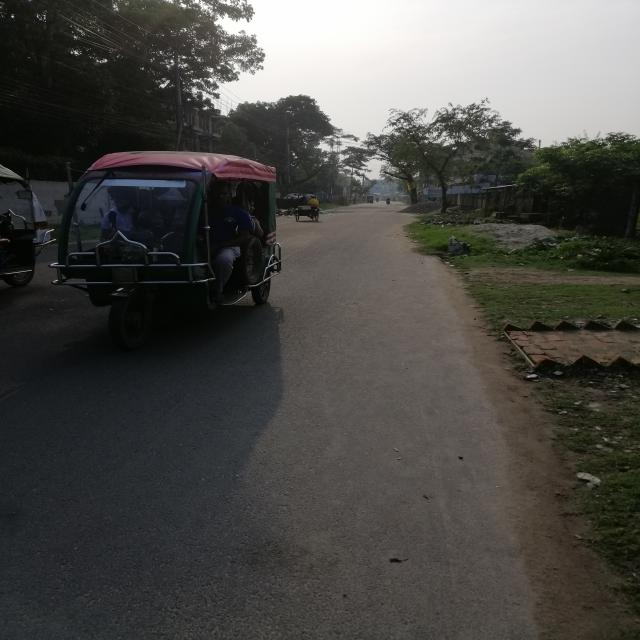Easybike: (45, 138, 314, 338)
